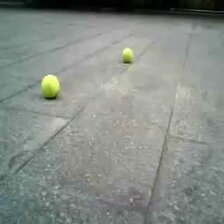tennis: (42, 74, 59, 97), (122, 47, 135, 61)
